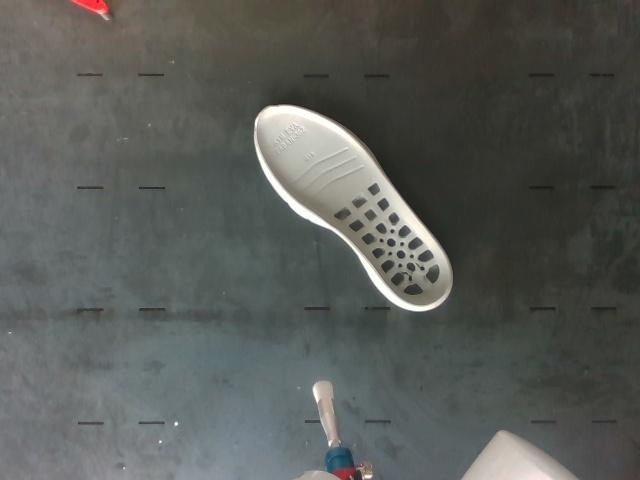shoes: (257, 106, 449, 306)
